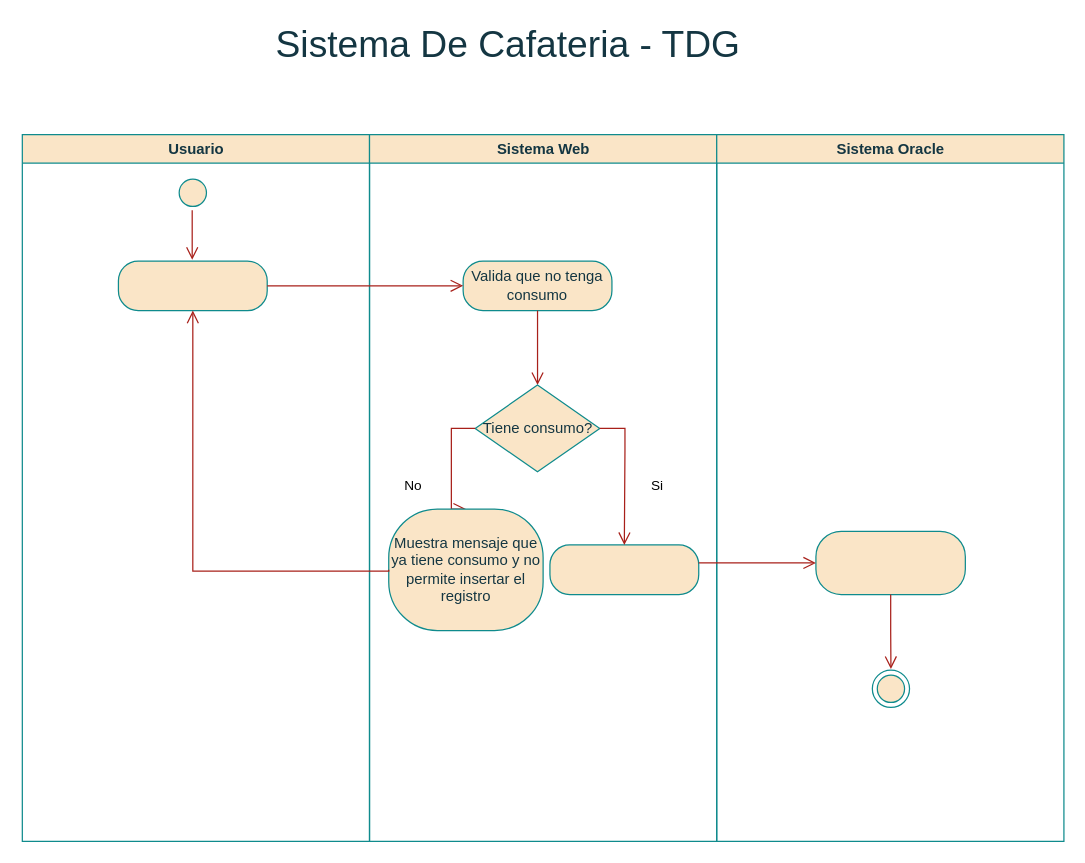
Image size: 1085x863. Some labels were removed from this diagram. The shapes that lost their labels are listed below. From the top down, each one's centre as x and y in pixels, then its label:
point 192,285: Introduce el pase
point 624,569: Inserta registro en Oracle DB
point 890,562: Recibe el registro y guarda informacion en base de datos
